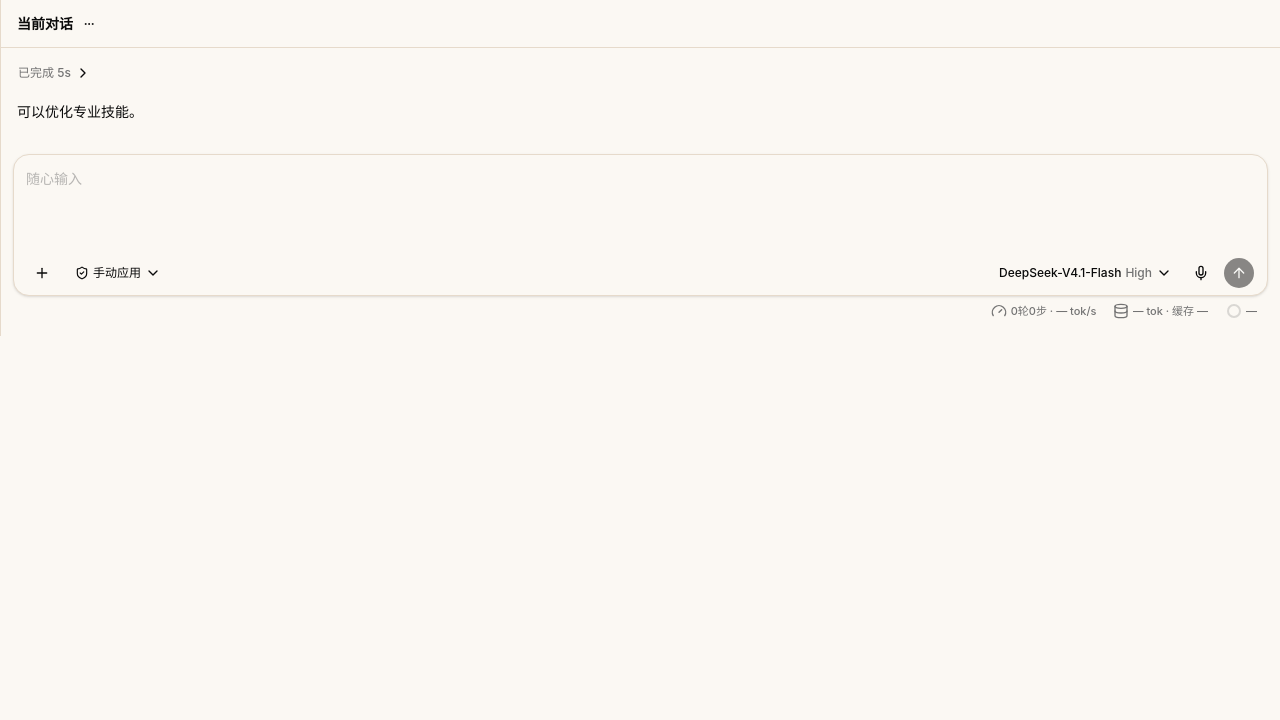
Scenario: AgentChatPanel › collapses completed processing while keeping the answer visible and thinking available on demand
The image size is (1280, 720).
Expected: the text "可以优化专业技能。" is shown, 17,103 -> 143,120
Expected: the text "我会先读取上下文。" is not shown
What coordinates should you click on to do the following:
click the button "已完成 5s"
I would click on:
 (58, 73)
Its box is 17,64 -> 100,82.
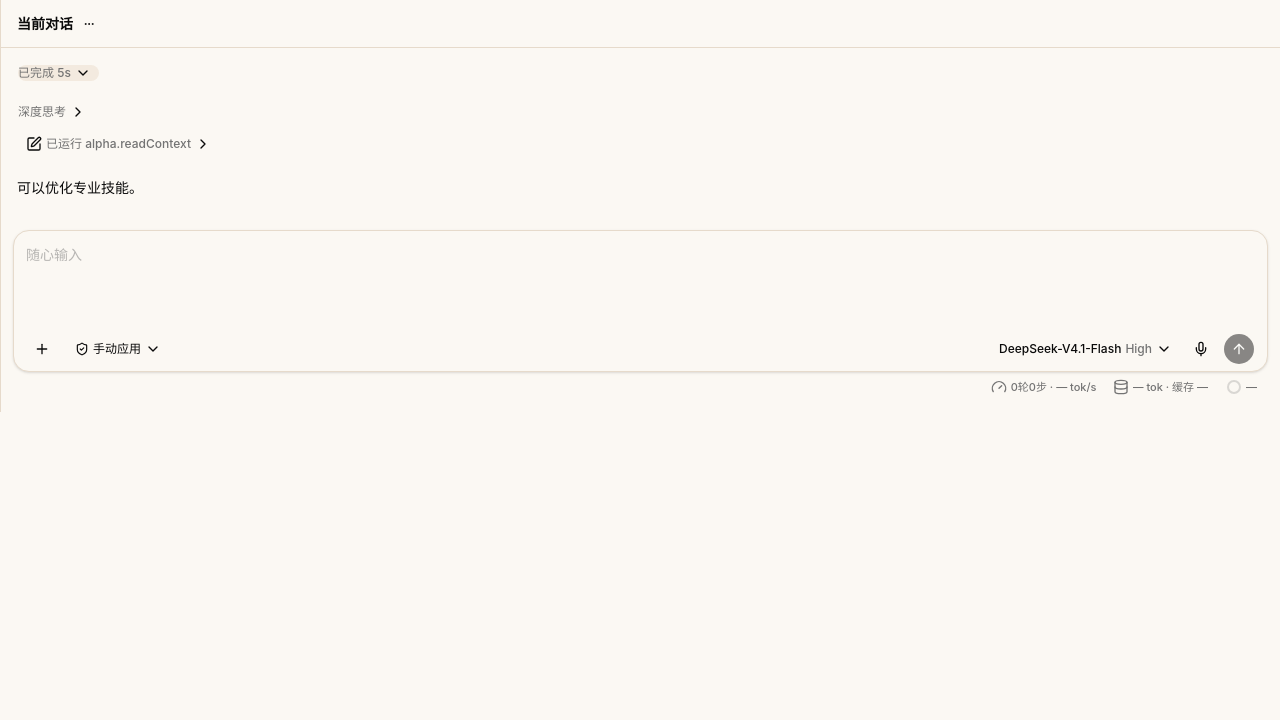
What coordinates should you click on to do the following:
click the button "已运行 alpha.readContext"
I would click on:
 (118, 144)
Its box is 17,135 -> 220,153.
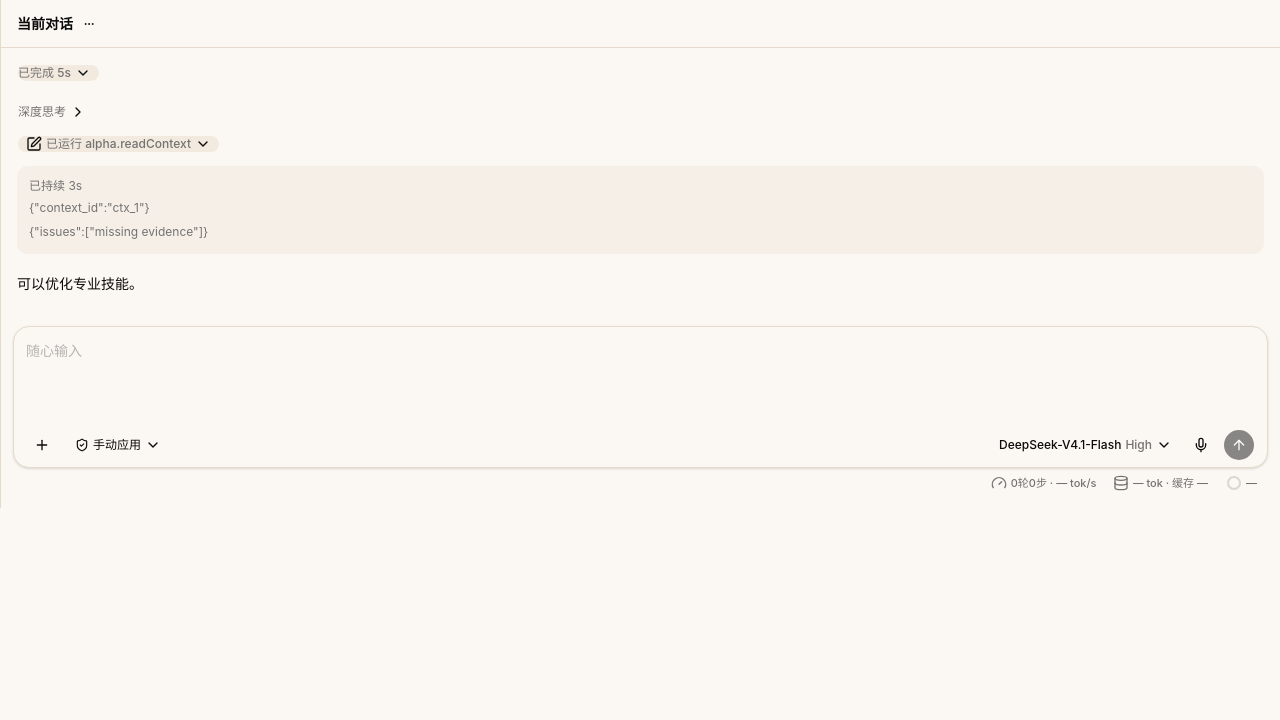
Expected: the text "我会先读取上下文。" is not shown
Now the button "已运行 alpha.readContext" is shown, box 17,135 -> 220,153
Now the text "已持续 3s" is shown, box 29,178 -> 82,193
What coordinates should you click on to do the following:
click the button "深度思考"
I would click on:
 (56, 112)
Its box is 17,103 -> 95,121.
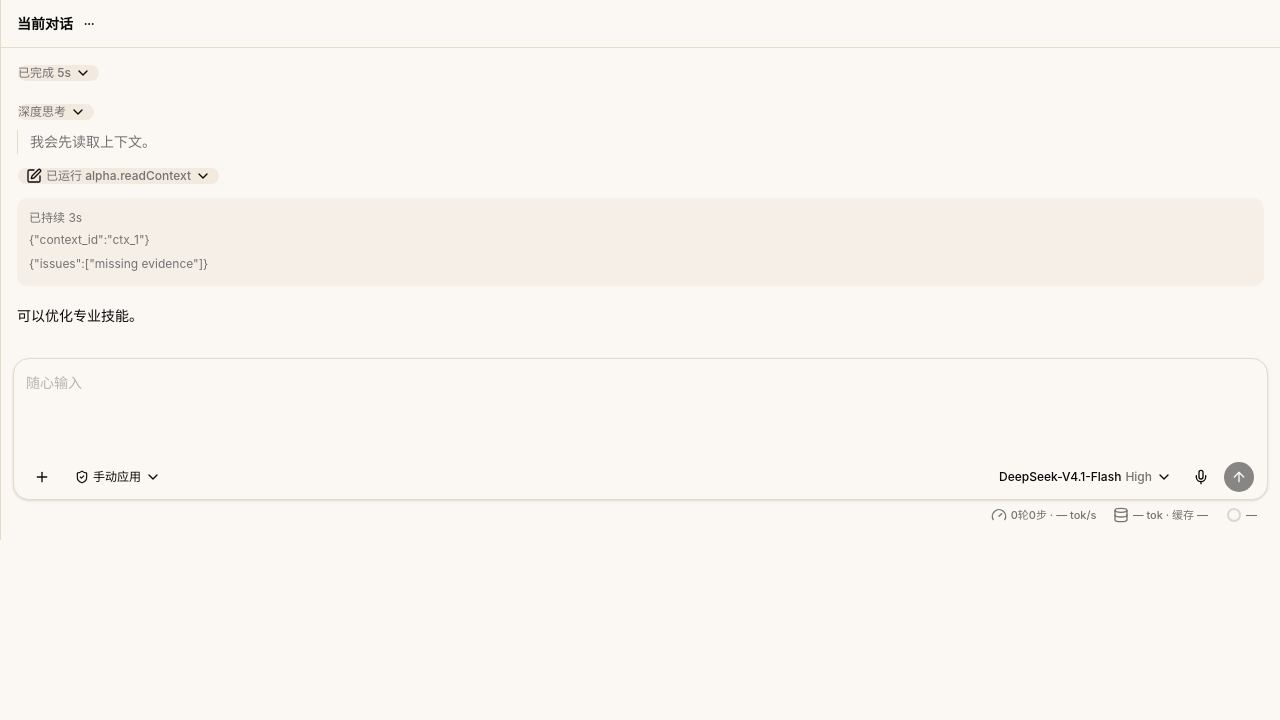
Now the text "我会先读取上下文。" is shown, box 17,130 -> 1264,154
